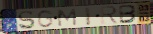B: (119, 5, 138, 25)
G: (37, 9, 54, 28)
I: (84, 7, 92, 27)
M: (57, 8, 78, 27)
R: (100, 5, 120, 25)
S: (17, 10, 36, 30)
